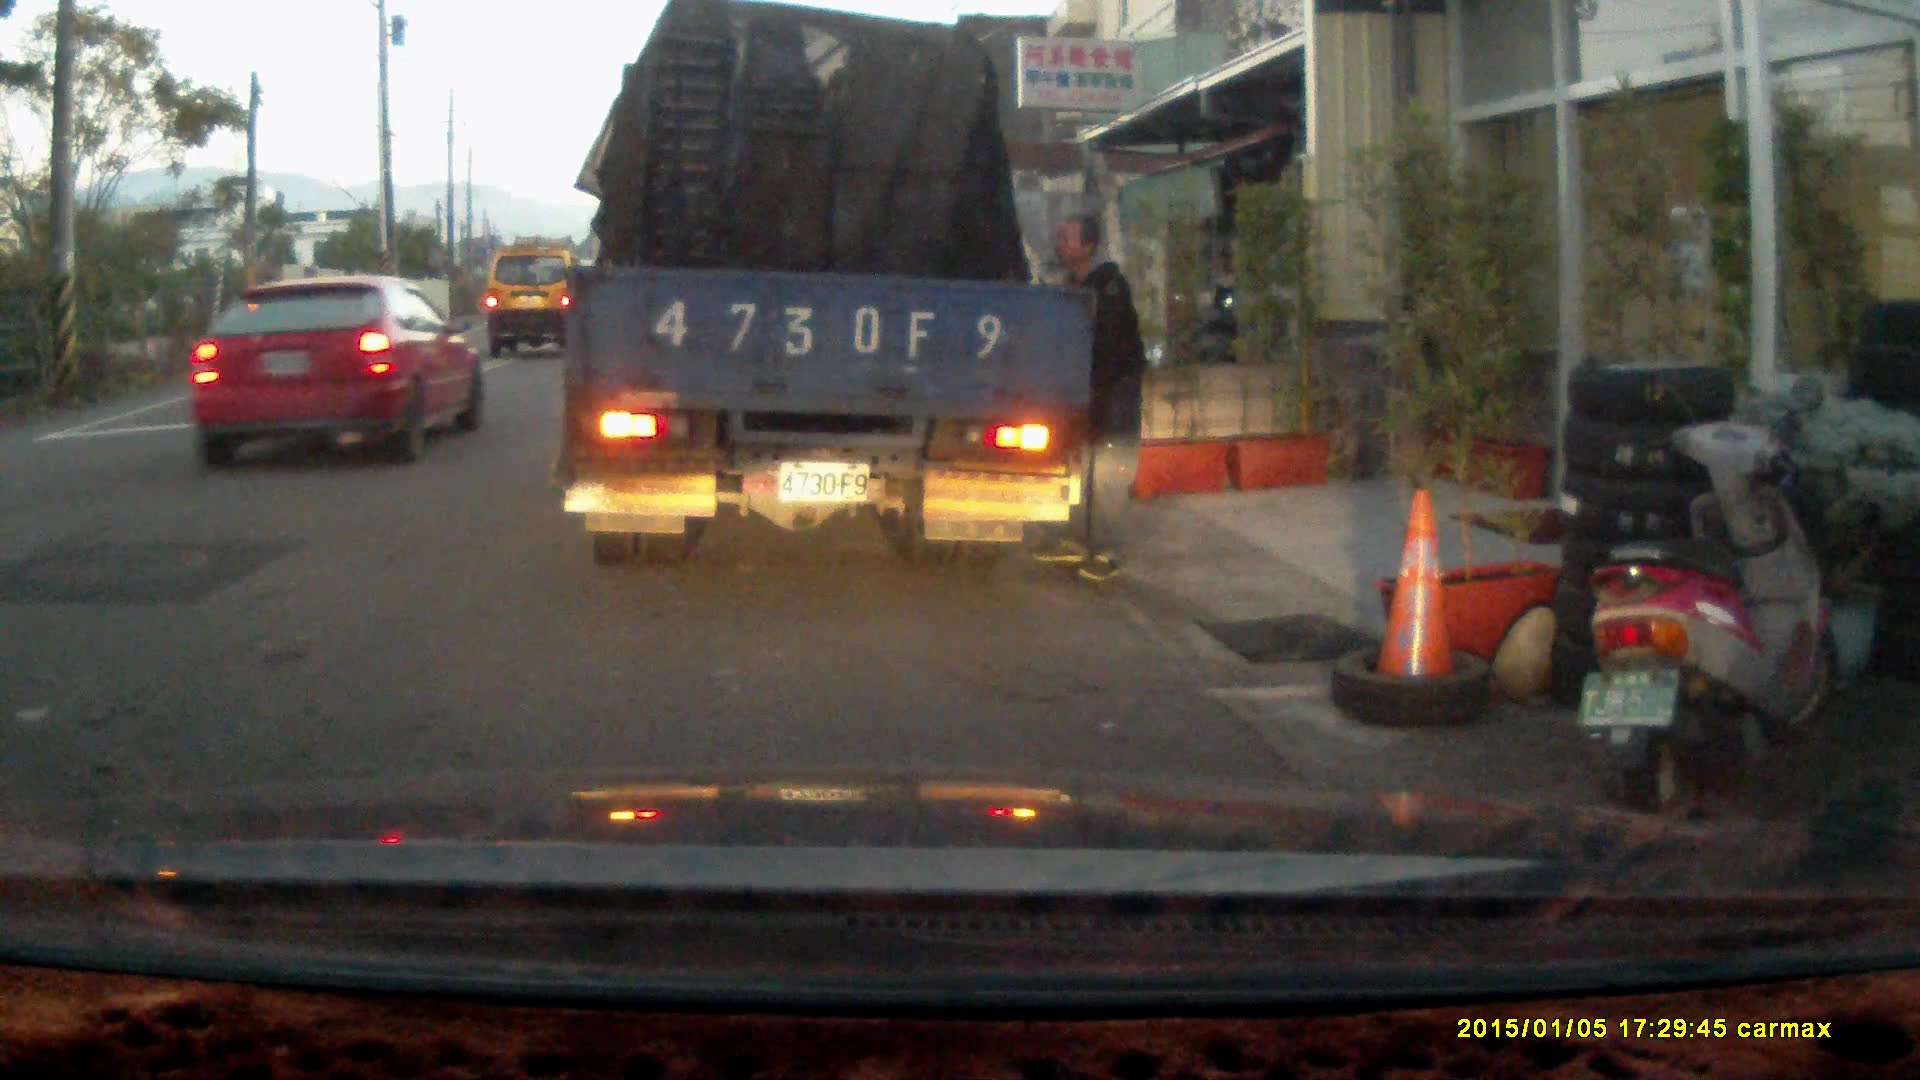pedestrian: (1033, 215, 1145, 581)
vehicle: (565, 23, 1097, 572), (184, 270, 487, 476), (483, 245, 586, 351)
